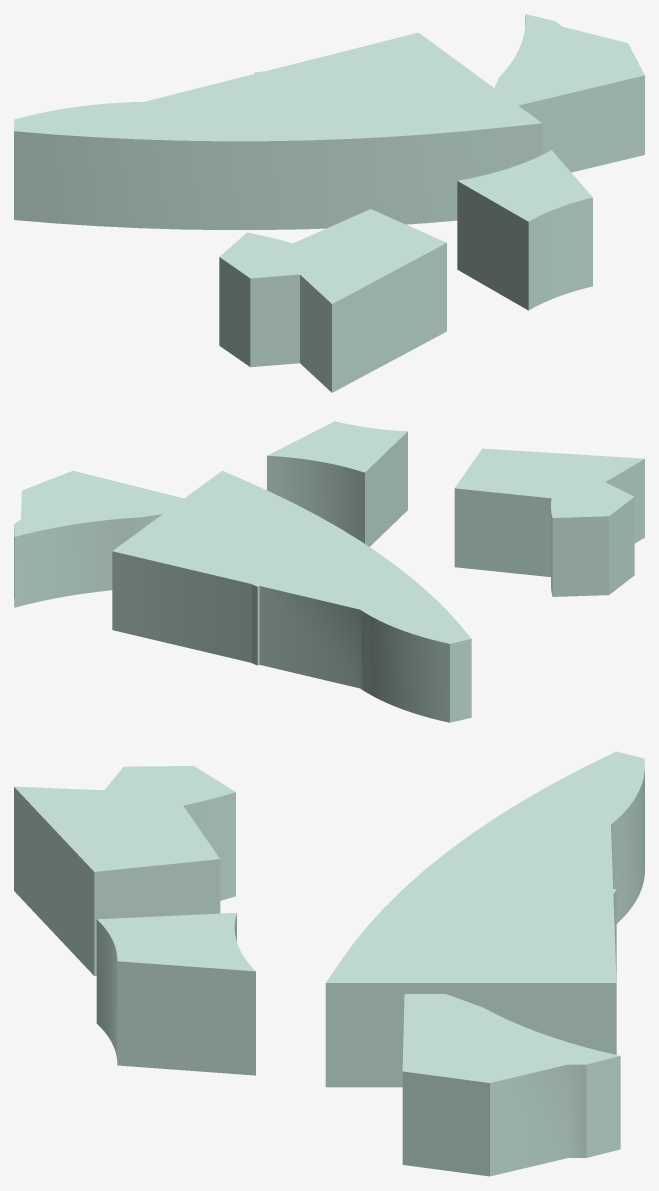
3 views of the same model, one above another, from view 1: azimuth 30°, elevation 25°; view 2: azimuth 150°, elevation 25°; view 3: azimuth 270°, elevation 25° (orthographic). The views are drawn at different scales.
Visible parts, largest first — view 1: Renderer Node; view 2: Renderer Node; view 3: Renderer Node.
Part boxes in pixels (x1,y1,x2,y2): Renderer Node: [14, 14, 644, 392]; Renderer Node: [14, 421, 644, 722]; Renderer Node: [14, 751, 644, 1176].
Size of the model in its own units: 1.5 by 0.2266 by 1.24.
